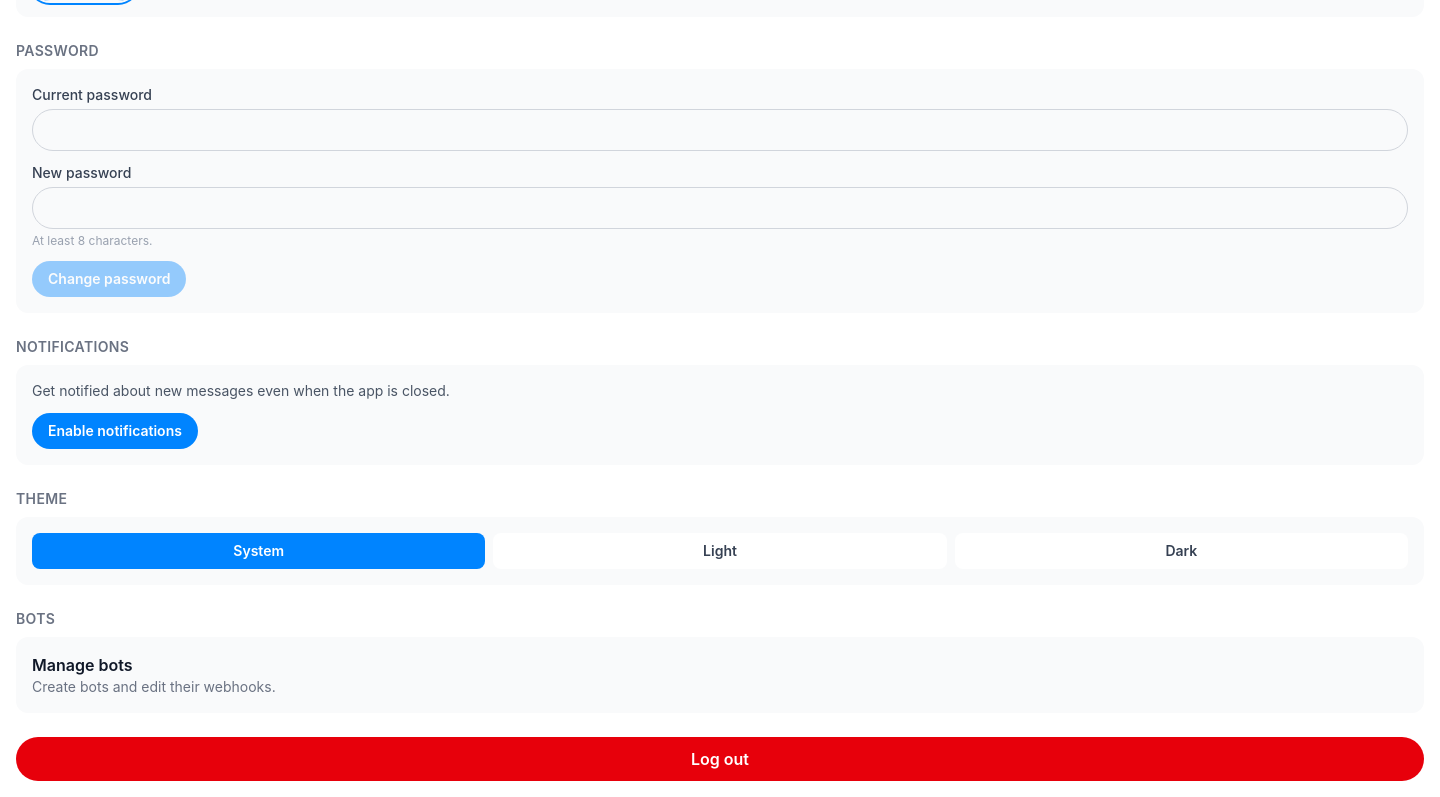
it: SettingsPage — notifications › shows the enable flow and turns notifications on
This screenshot has width=1440, height=797.
(page scrolled)
Step 1. Click the button "Enable notifications" → (115, 431), box [32,413,198,449]
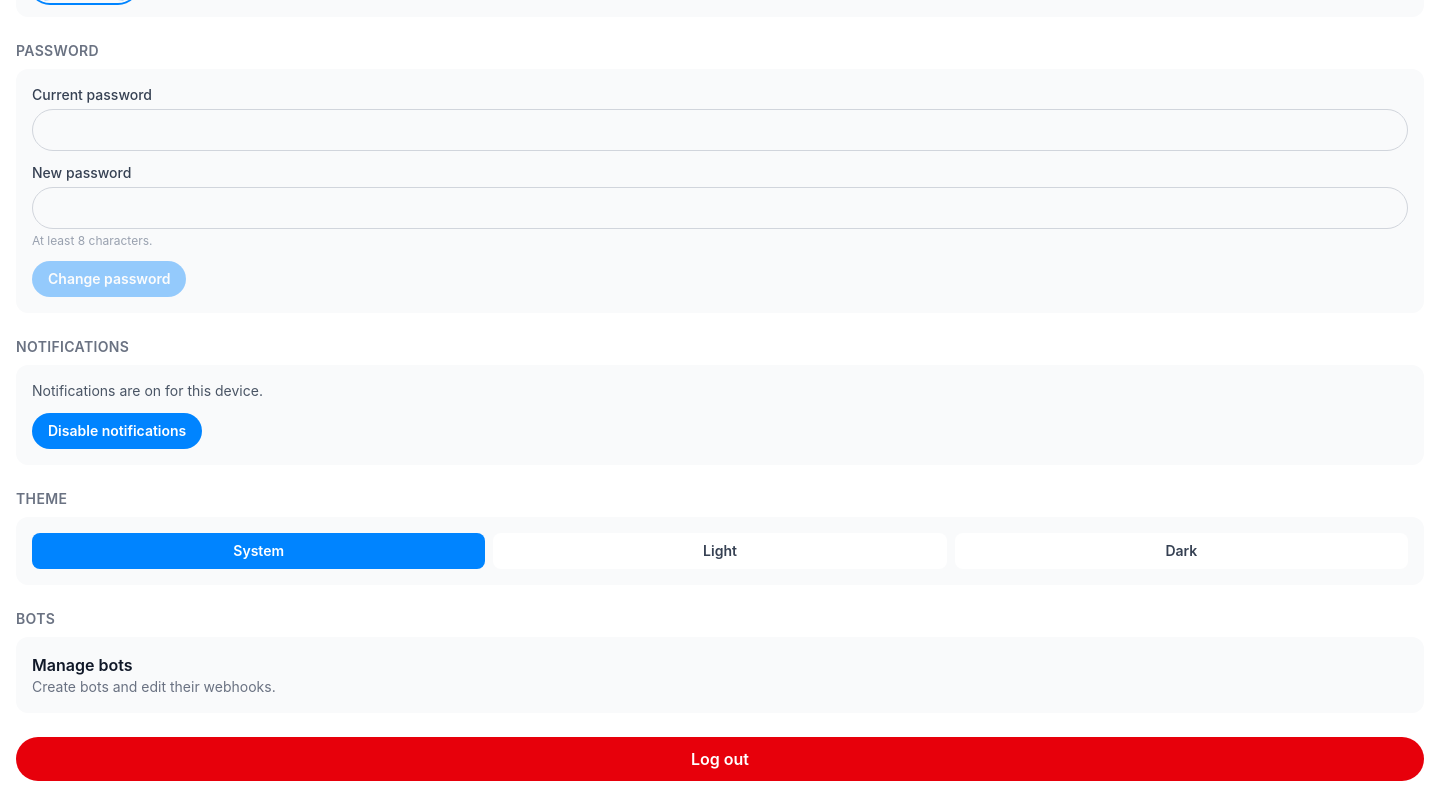
Check: the button "Disable notifications" is shown, box [32,413,202,449]
Check: the text "Notifications are on for this device." is shown, box [32,382,263,399]
